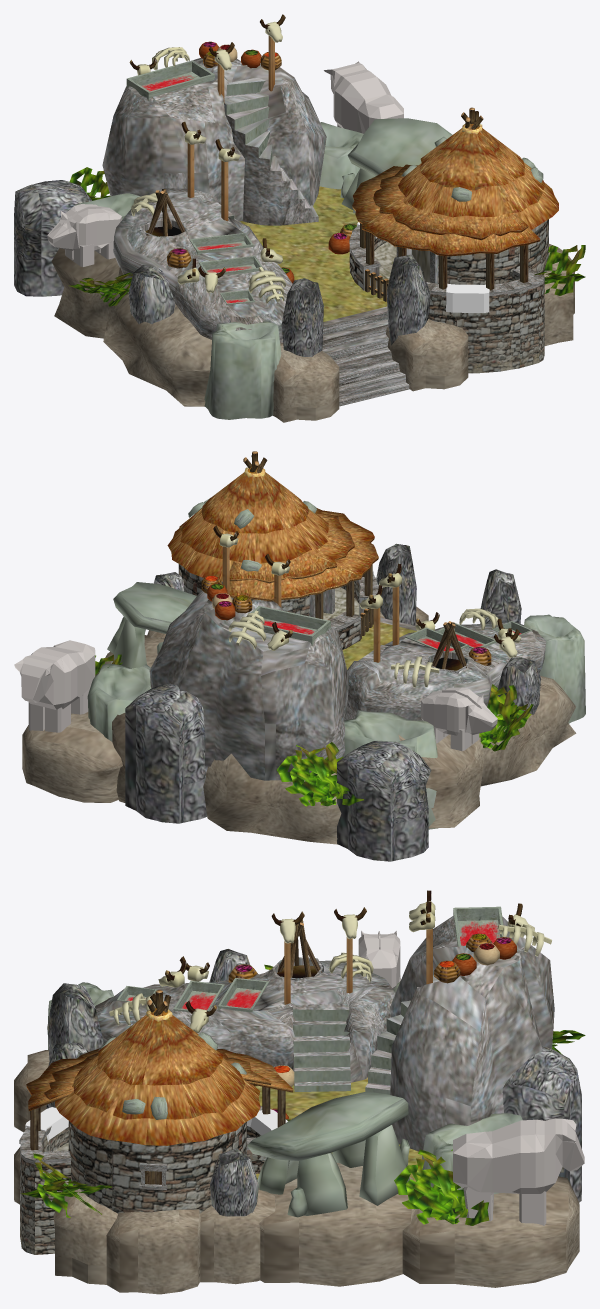
Rendered from lusi_new_temple.dae.
3 views of the same model, one above another, from view 1: azimuth 30°, elevation 25°; view 2: azimuth 150°, elevation 25°; view 3: azimuth 270°, elevation 25° (orthographic). The views are drawn at different scales.
Parts seen in each view (by area): view 1: lusi_new_temple; view 2: lusi_new_temple; view 3: lusi_new_temple.
Boxes of the visible parts, bbox=[...] form: lusi_new_temple: bbox=[14, 14, 585, 422]; lusi_new_temple: bbox=[14, 451, 585, 861]; lusi_new_temple: bbox=[14, 890, 585, 1294].
Bounding box in the file's own units: 33.13 × 33.15 × 18.43.
